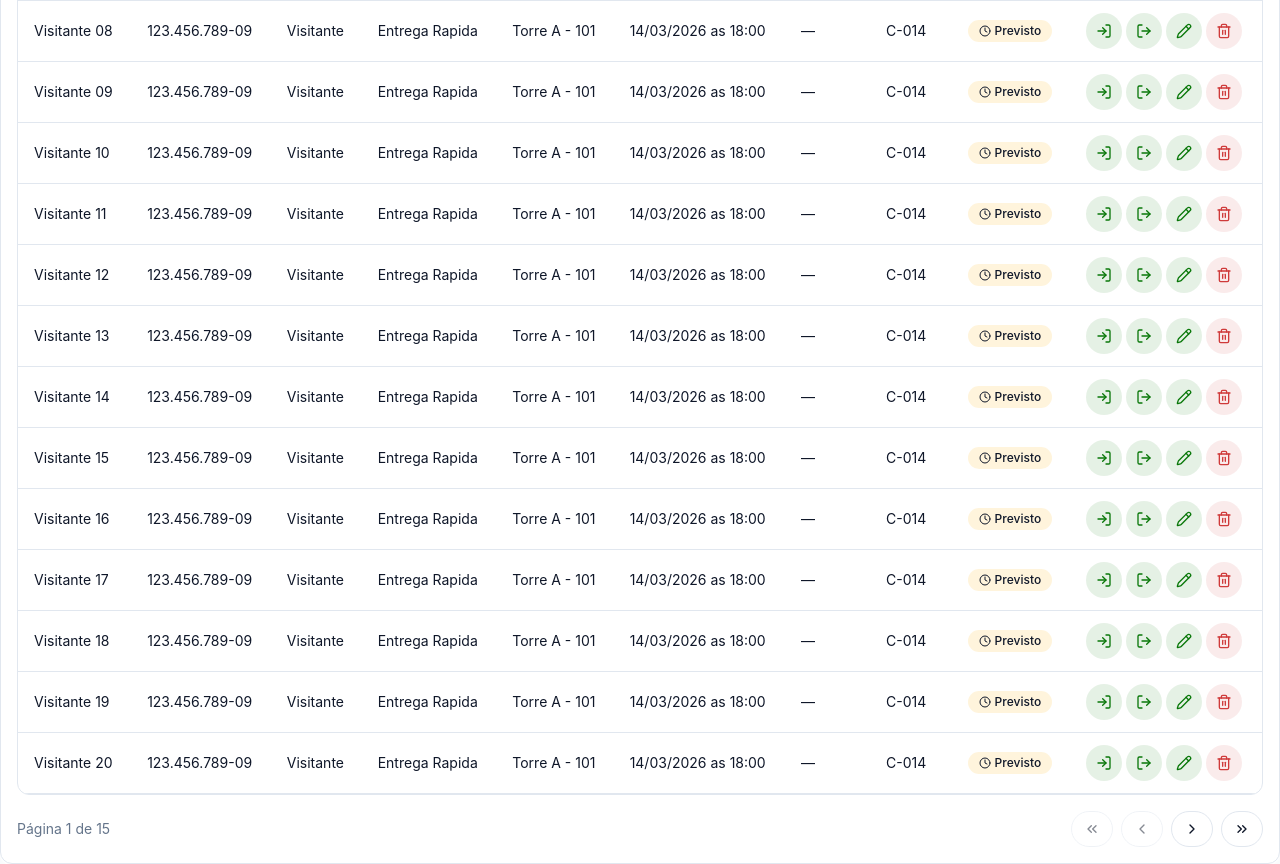
Test case: Listagem de visitantes › trezentos visitantes paginam no tamanho pedido
(page scrolled)
Click the button named "Próxima página" at (1192, 829), box [1171, 811, 1213, 847]
(page scrolled)
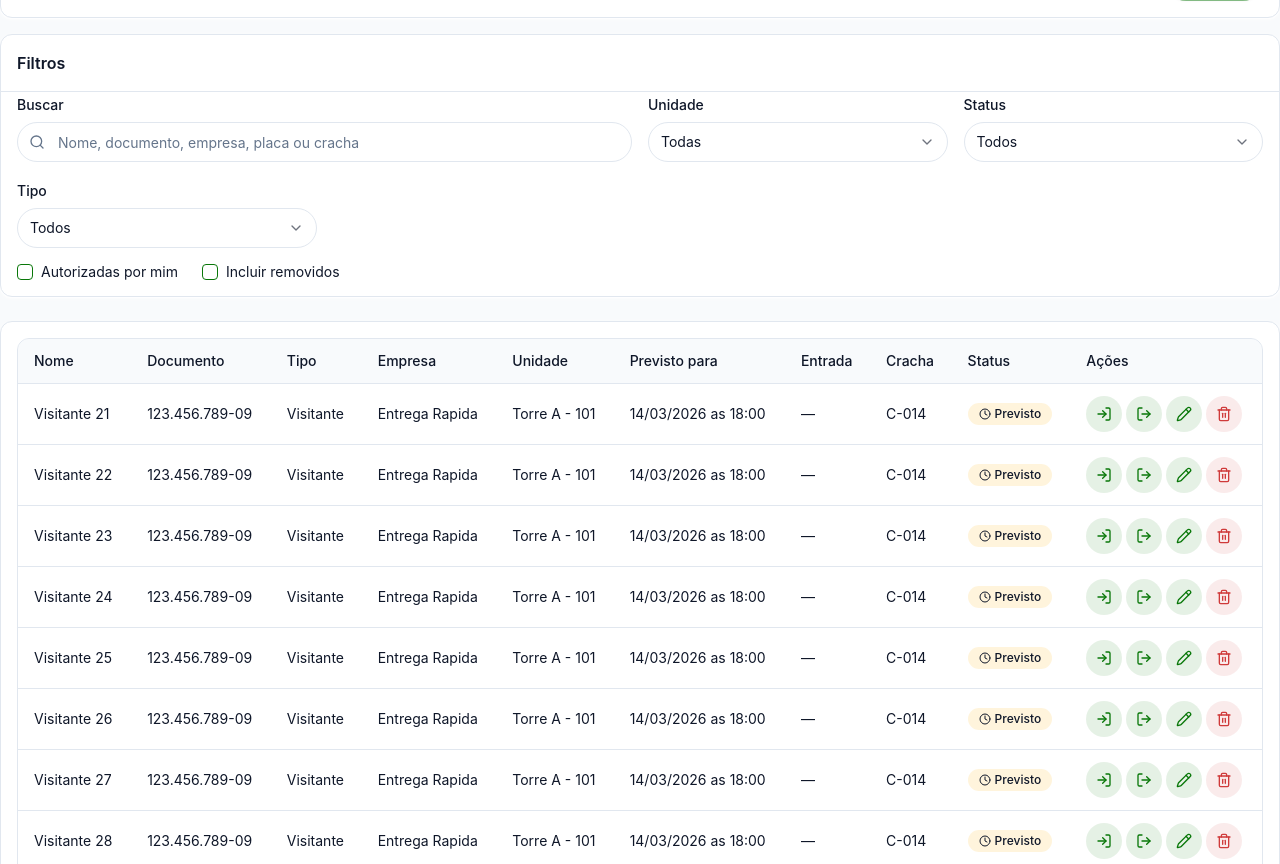
expect the text "Visitante 21" is shown: met, box [34, 404, 109, 424]
